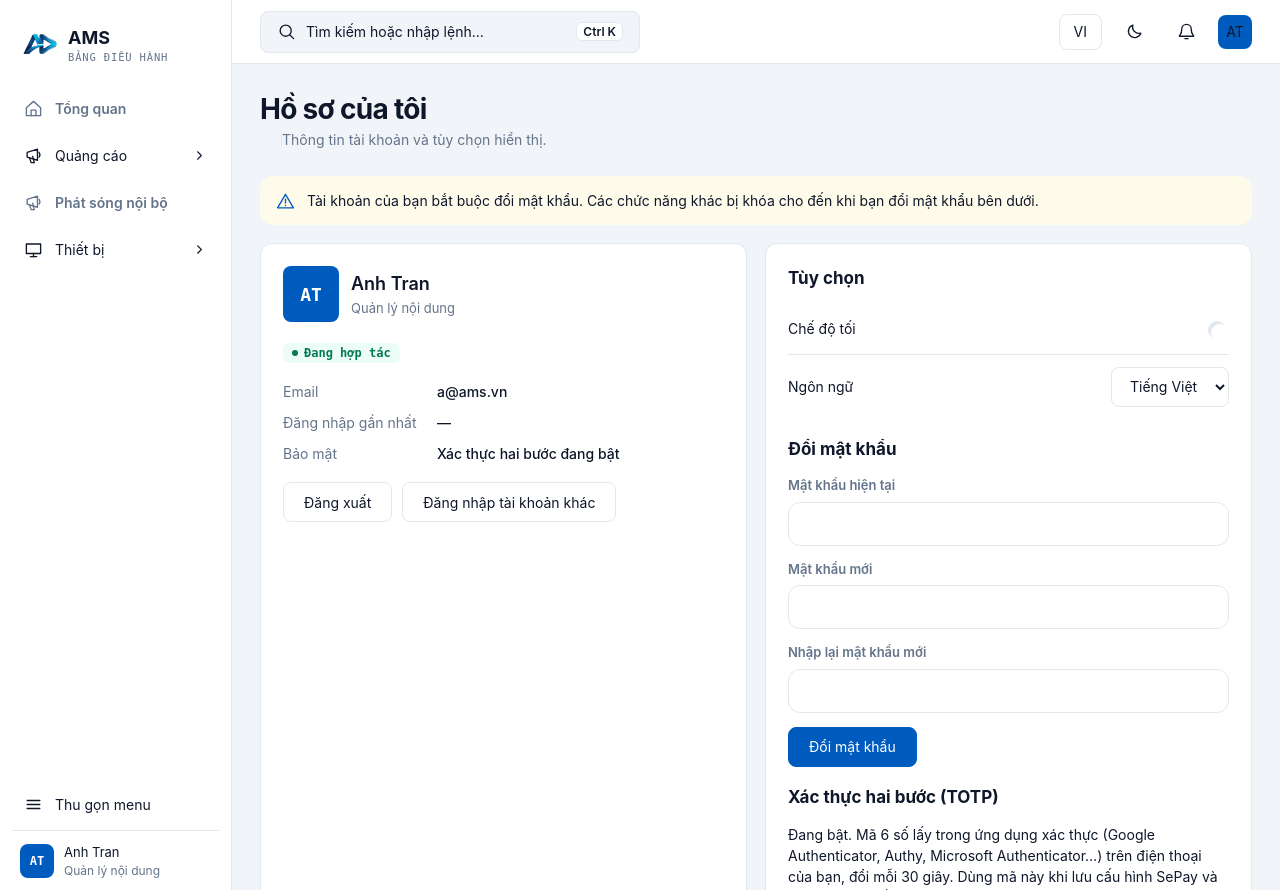
Test: must_change_password › phien con song sau khi tai lai + co bat buoc: chuyen thang sang /profile, moi trang khac bi khoa; doi mat khau xong thi mo khoa
Expected: the text "bắt buộc đổi mật khẩu" is shown, [307, 192, 1039, 209]
In the password field labelled "Mật khẩu hiện tại": (1008, 524) [788, 502, 1229, 546], type "Cu-Mat-Khau-1"
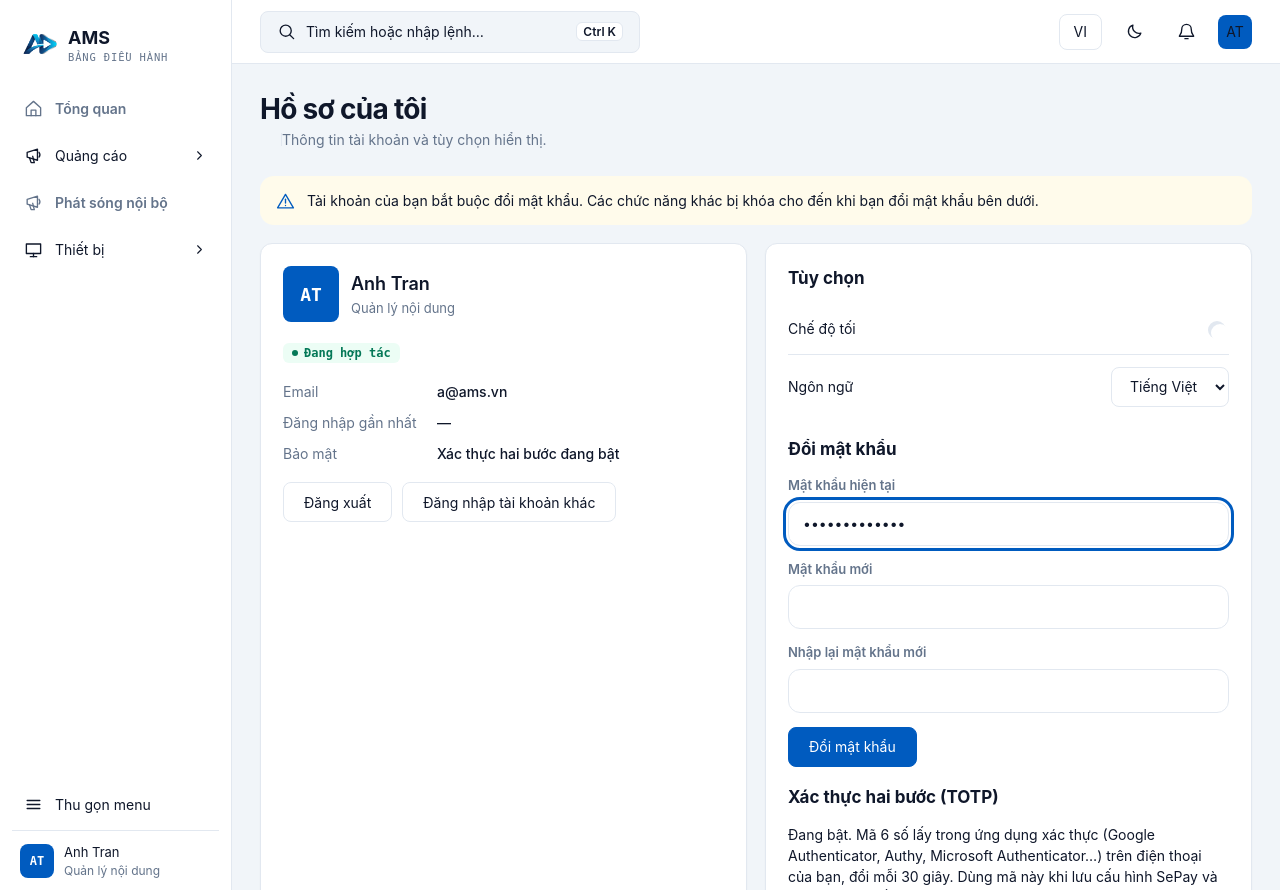
In the password field labelled "Mật khẩu mới": (1008, 607) [788, 585, 1229, 629], type "Mat-Khau-Moi-2026x"
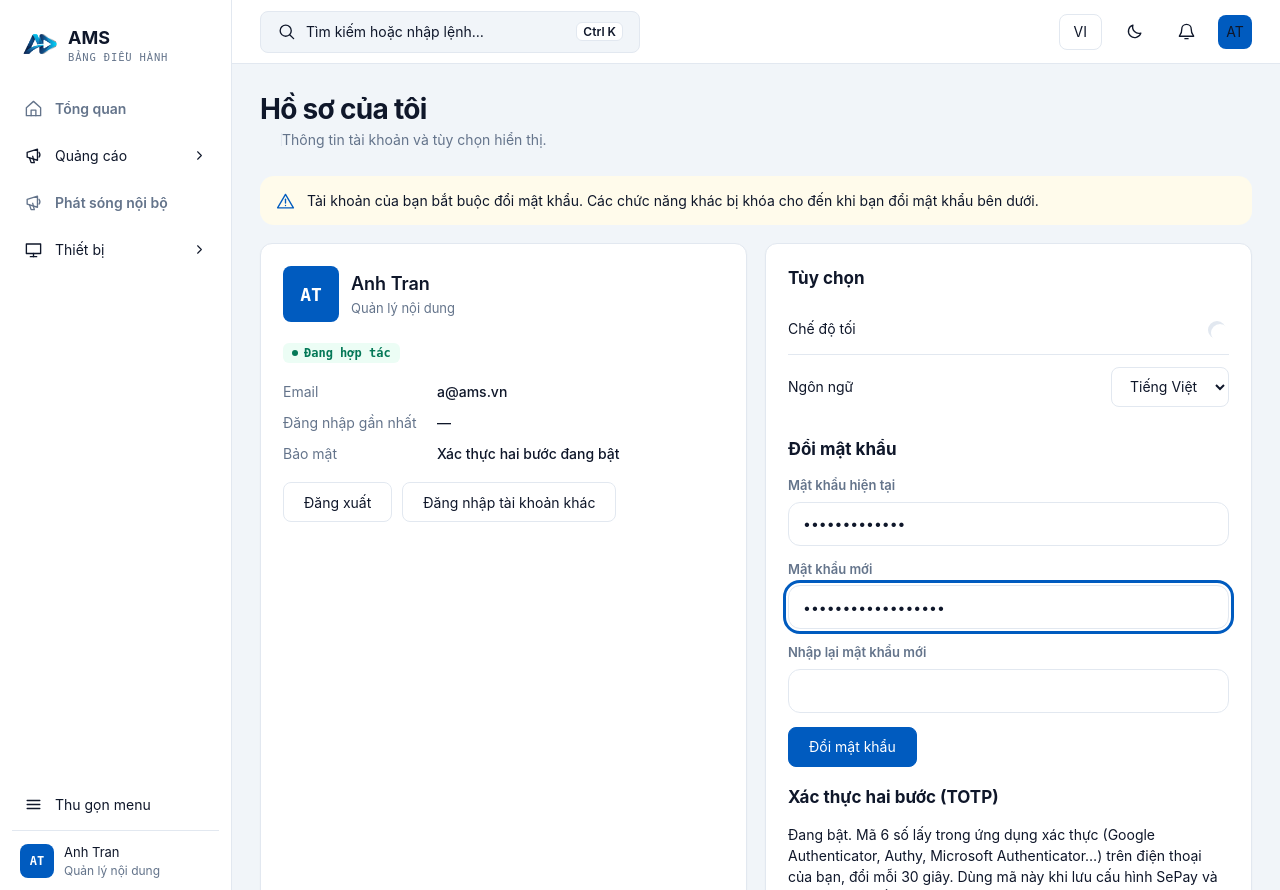
In the password field labelled "Nhập lại mật khẩu mới": (1008, 690) [788, 668, 1229, 712], type "Mat-Khau-Moi-2026x"
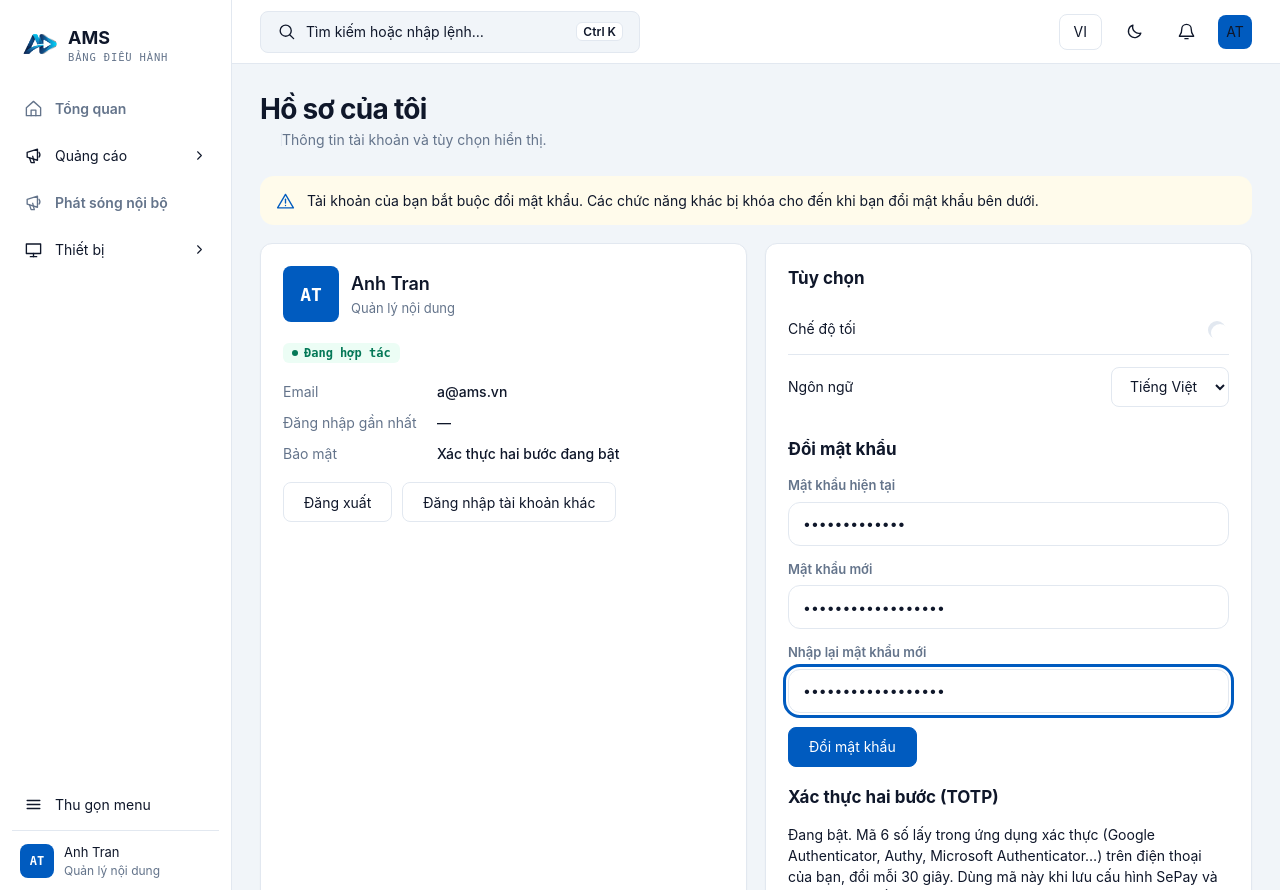
Click the button "Đổi mật khẩu": (852, 746) [788, 726, 917, 766]
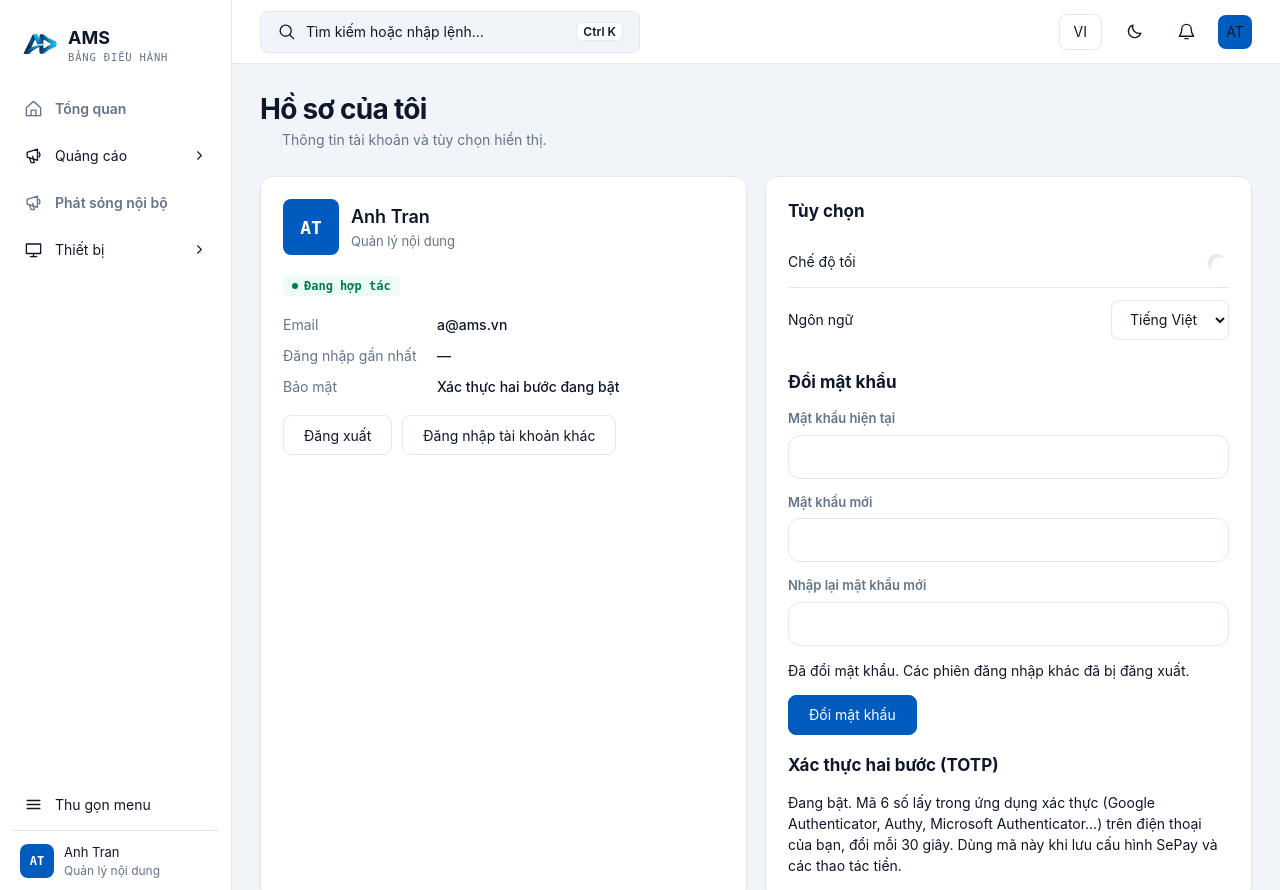
Expected: the text "bắt buộc đổi mật khẩu" is gone
